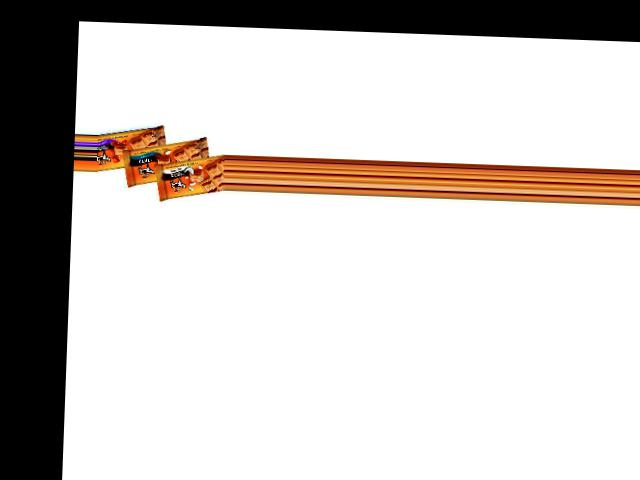chocolate: (95, 127, 172, 175)
